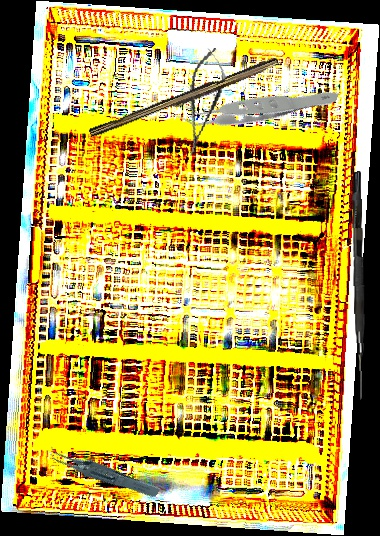Hook Surgical: (349, 171, 369, 400)
Micro Scissor: (174, 44, 232, 160)
Scalpel Handle: (88, 53, 281, 144)
Tissue Forceps: (172, 37, 340, 173), (45, 423, 162, 519)
